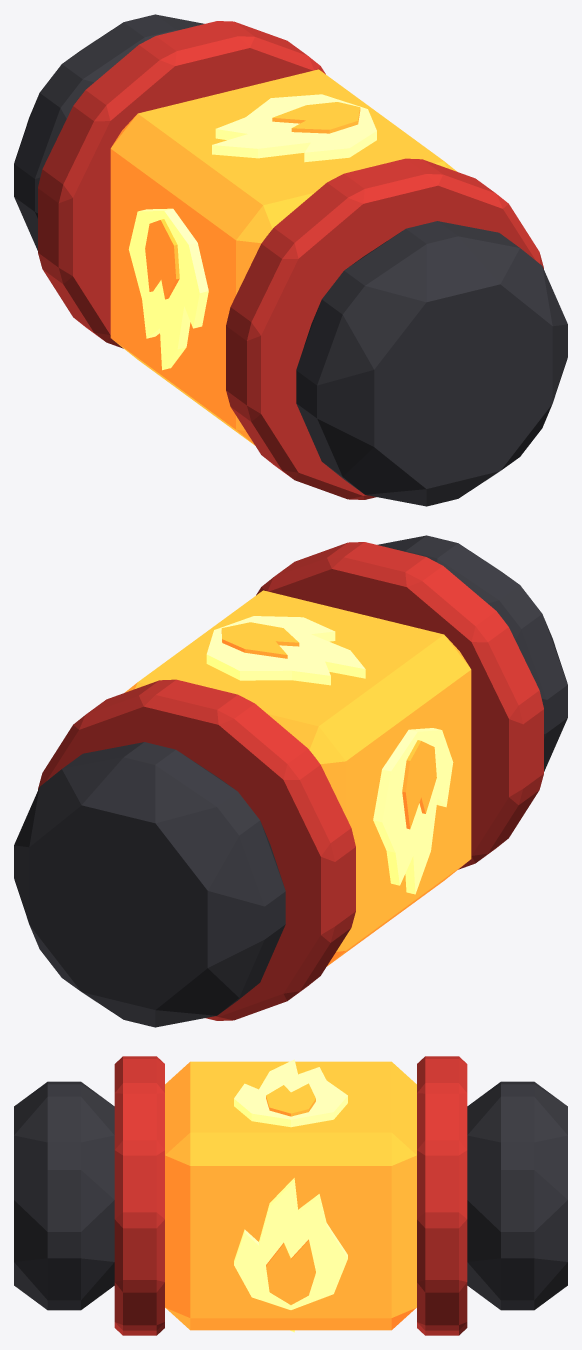
Rendered from ElementCartridge_Fire.fbx.
3 renders of one model, top to bottom at view 1: azimuth 30°, elevation 25°; view 2: azimuth 150°, elevation 25°; view 3: azimuth 270°, elevation 25°, orthographic. The views are drawn at different scales.
Parts seen in each view (by area): view 1: Cartridge_Fire; view 2: Cartridge_Fire; view 3: Cartridge_Fire.
Boxes of the visible parts, left/top/right/bottom form: Cartridge_Fire: left=14, top=14, right=567, bottom=506; Cartridge_Fire: left=14, top=535, right=567, bottom=1027; Cartridge_Fire: left=14, top=1056, right=567, bottom=1335.
Size of the model in its own units: 0.0328 by 0.0328 by 0.066.
